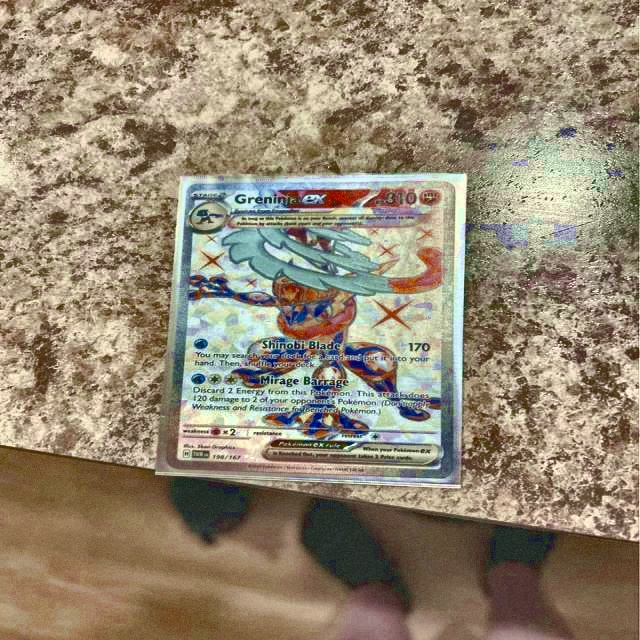card: (163, 180, 456, 480)
